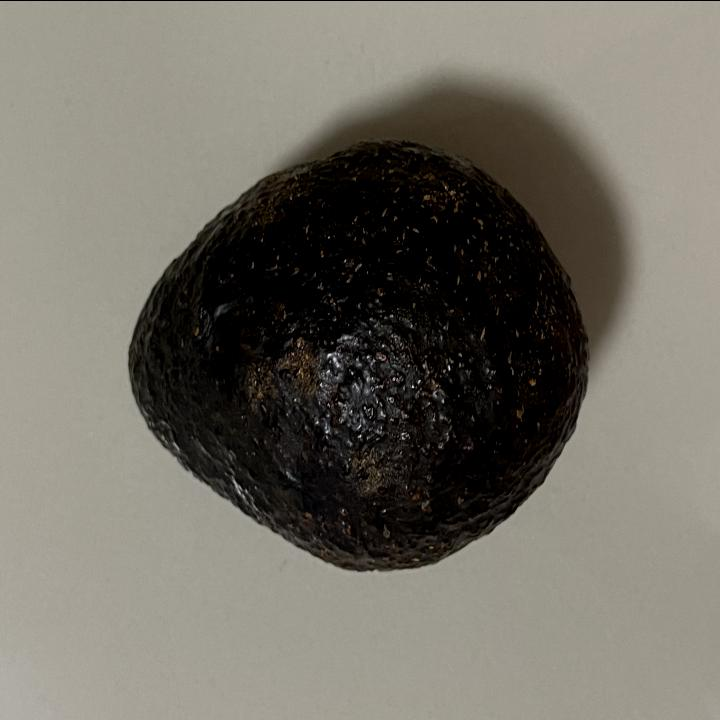Level3: (118, 131, 595, 586)
